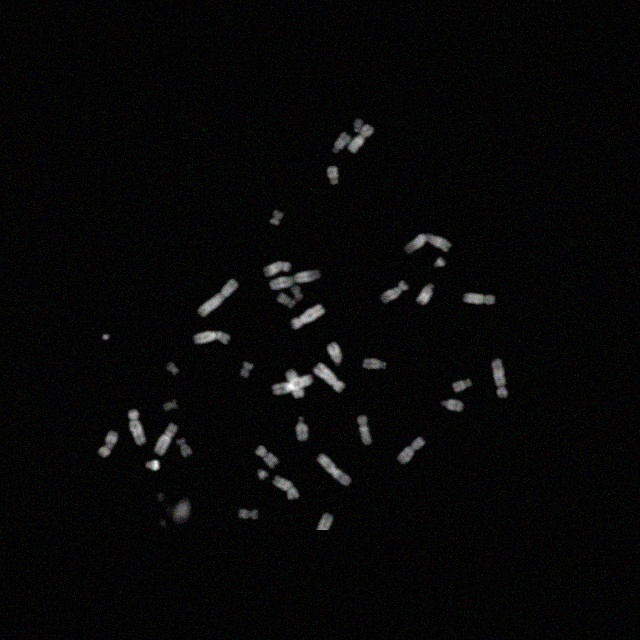chromosome: (197, 278, 237, 316), (316, 454, 352, 486), (404, 232, 451, 255), (270, 270, 322, 290), (290, 303, 326, 329), (272, 374, 314, 396), (314, 363, 344, 393), (348, 125, 376, 155), (155, 422, 179, 456), (397, 438, 425, 464), (272, 474, 300, 500), (128, 408, 146, 446), (381, 281, 409, 305), (492, 359, 508, 399), (98, 430, 120, 458), (254, 445, 280, 467), (193, 330, 230, 344), (264, 260, 292, 278), (286, 370, 304, 398), (172, 500, 194, 522), (356, 415, 372, 445), (462, 292, 496, 306), (416, 284, 436, 306), (440, 397, 464, 413), (294, 417, 310, 441), (332, 131, 348, 155), (328, 343, 342, 367), (177, 437, 193, 458), (276, 292, 296, 308), (452, 378, 472, 394), (238, 507, 260, 521), (317, 512, 333, 530), (364, 358, 386, 370), (327, 166, 339, 186), (270, 210, 284, 227), (290, 286, 306, 300), (145, 458, 159, 474), (240, 362, 253, 378), (167, 360, 179, 376), (162, 400, 178, 412), (353, 118, 363, 134), (433, 258, 447, 268), (257, 470, 269, 480)
